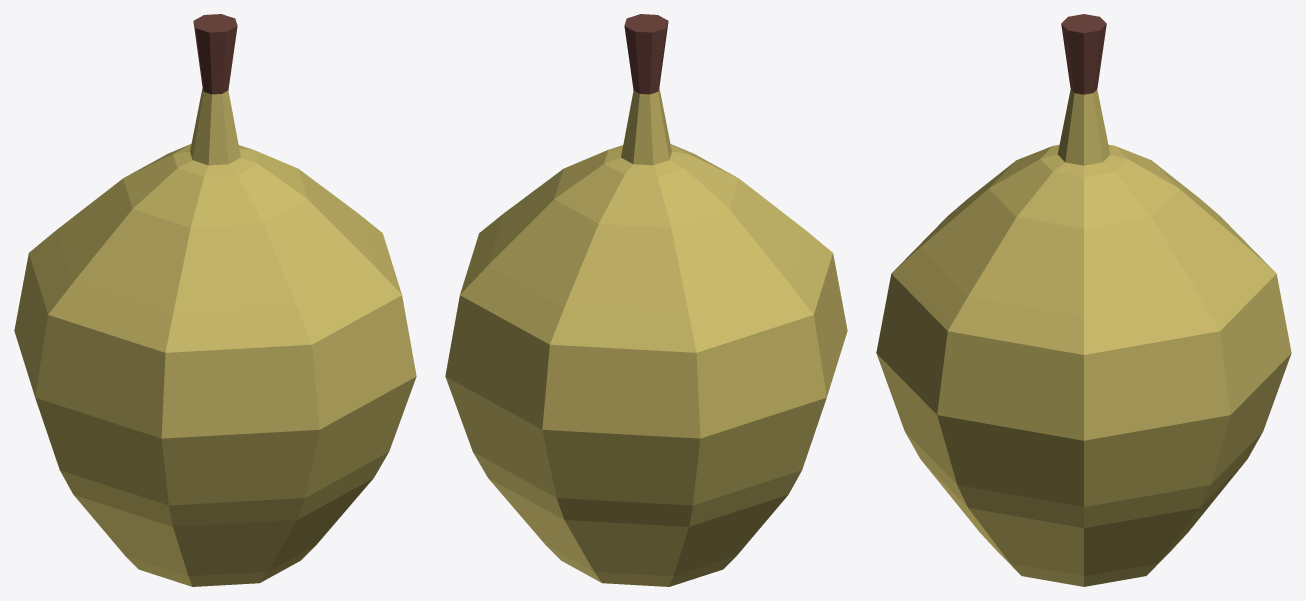
The model's file is BeeHive.fbx.
3 renders of one model, left to right at view 1: azimuth 30°, elevation 25°; view 2: azimuth 150°, elevation 25°; view 3: azimuth 270°, elevation 25°, orthographic.
Parts seen in each view (by area): view 1: BeeNest; view 2: BeeNest; view 3: BeeNest.
Boxes of the visible parts, x1,y1,x2,y2 form: BeeNest: [14, 14, 416, 586]; BeeNest: [445, 14, 847, 586]; BeeNest: [876, 14, 1291, 586].
Size of the model in its own units: 149 by 209 by 149.
